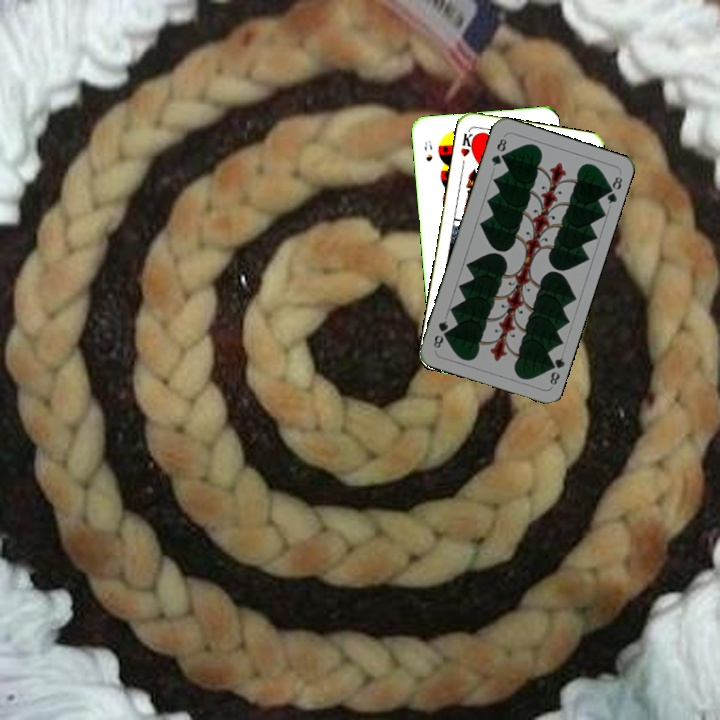G8: (543, 353, 567, 387), (487, 134, 509, 168)
HK: (456, 127, 478, 159)
S8: (420, 136, 435, 164)
